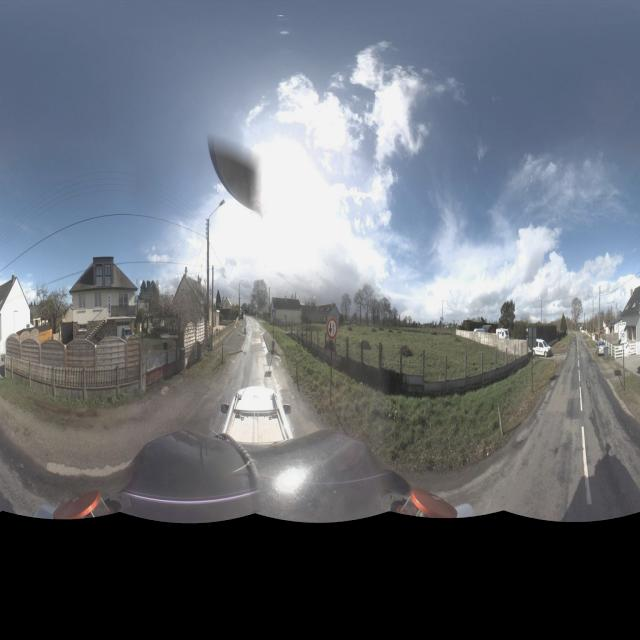car: (533, 338, 550, 356), (596, 340, 606, 356)
